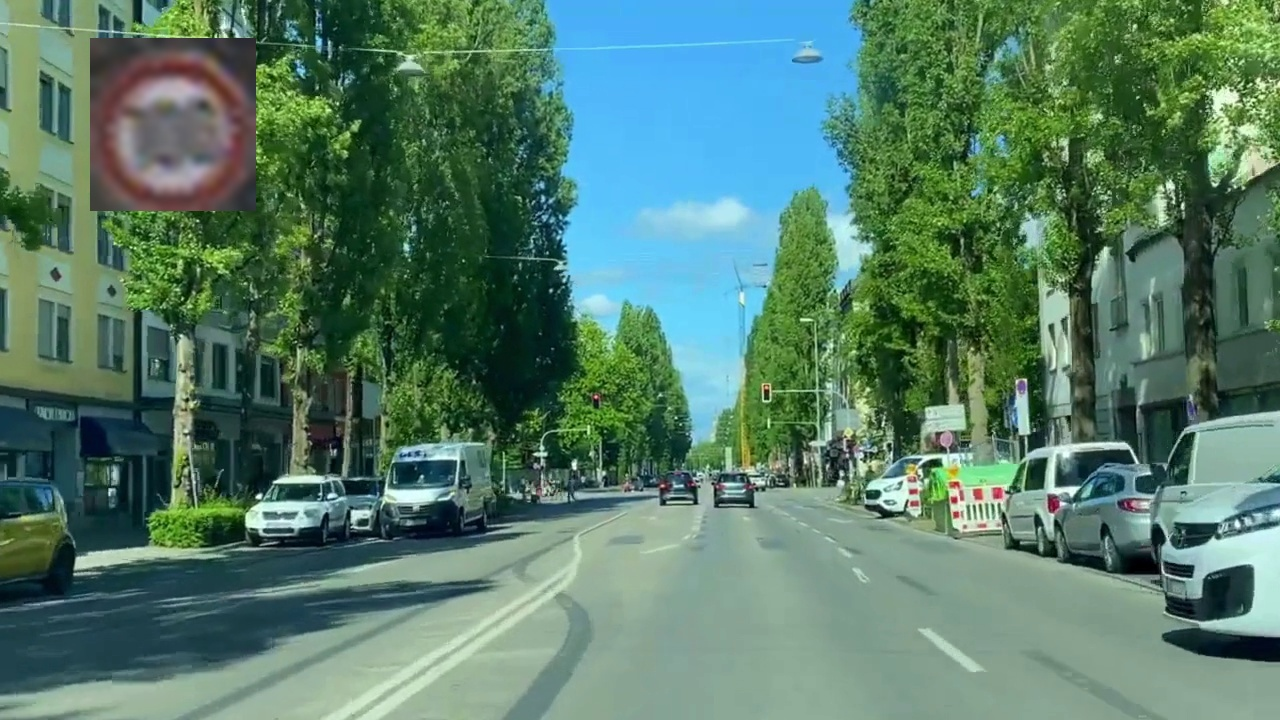Speed 100: (90, 38, 256, 211)
